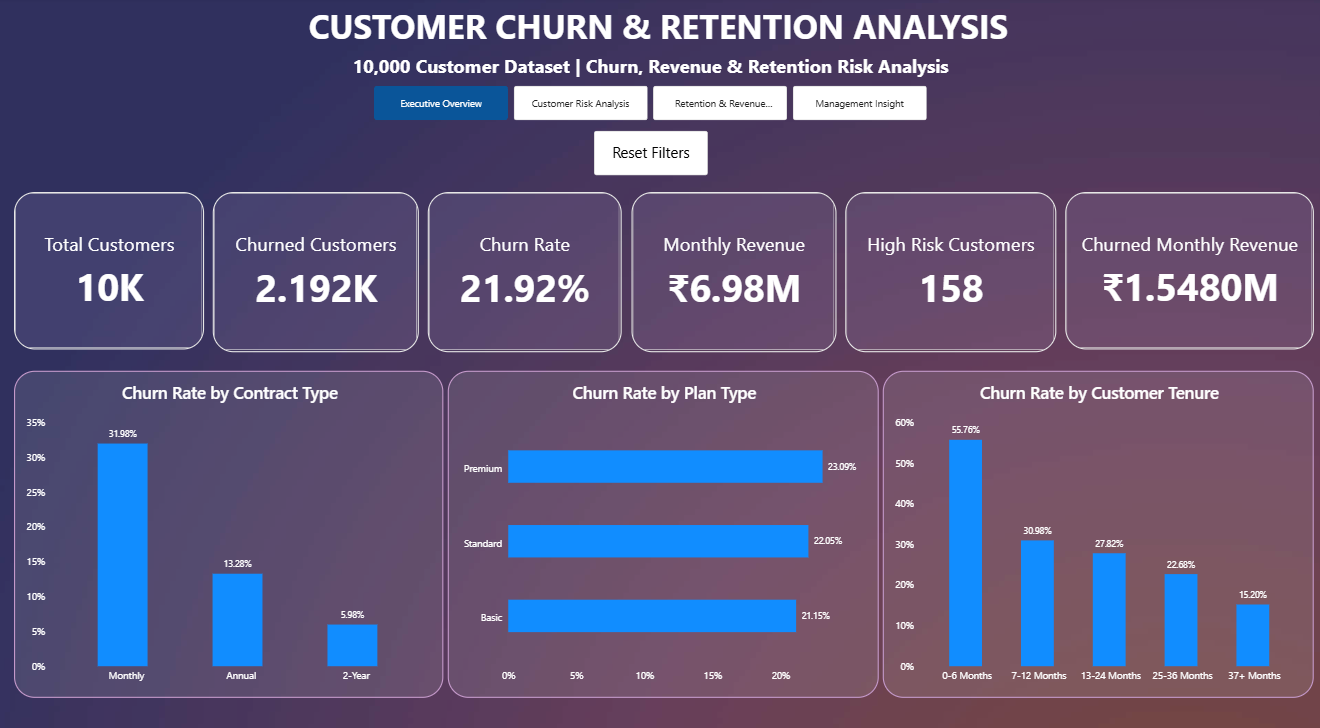

Layout of this report page (visuals, bound fields, positions):
{"tool":"powerbi","page":{"name":"Executive Overview","canvas":[1920,1080],"ordinal":0},"visuals":[{"type":"cardVisual","fields":{"Data":["Cleaned_Customer_Data 1.Total Customers"]},"box":[21.7,282.3,275.1,228],"z":0},{"type":"cardVisual","fields":{"Data":["Cleaned_Customer_Data 1.Churned Customers"]},"box":[309.5,282.3,298.6,231.6],"z":1000},{"type":"cardVisual","fields":{"Data":["Cleaned_Customer_Data 1.Churn Rate"]},"box":[620.7,282.3,280.5,231.6],"z":2000},{"type":"cardVisual","fields":{"Data":["Cleaned_Customer_Data 1.Monthly Revenue"]},"box":[915.7,282.3,296.8,231.6],"z":3000},{"type":"cardVisual","fields":{"Data":["Cleaned_Customer_Data 1.High Risk Customers"]},"box":[1225.1,282.3,305.8,231.6],"z":4000},{"type":"clusteredColumnChart","title":"Churn Rate by Contract Type","fields":{"Category":["Cleaned_Customer_Data 1.Contract_Type"],"Y":["Cleaned_Customer_Data 1.Churn Rate"]},"box":[20.9,540.5,621.9,473.7],"z":5000},{"type":"clusteredColumnChart","title":"Churn Rate by Customer Tenure","fields":{"Category":["Cleaned_Customer_Data 1.Tenure Group"],"Y":["Cleaned_Customer_Data 1.Churn Rate"]},"box":[1279.3,540.5,624,473.7],"z":6000},{"type":"barChart","title":"Churn Rate by Plan Type","fields":{"Category":["Cleaned_Customer_Data 1.Plan_Type"],"Y":["Cleaned_Customer_Data 1.Churn Rate"]},"box":[649,540.5,624,473.7],"z":7000},{"type":"textbox","box":[328.4,8.6,1267.5,72.5],"z":8000},{"type":"textbox","box":[308.9,81.1,1268,58],"z":9000},{"type":"cardVisual","fields":{"Data":["Cleaned_Customer_Data 1.Churned Monthly Revenue"]},"box":[1543.6,282.3,360.1,228],"z":10000},{"type":"pageNavigator","box":[542.9,128.5,801.7,50.7],"z":11000},{"type":"actionButton","box":[861.9,194.1,164.9,64.7],"z":12000}]}

Visuals, with their boxes in screenshot pixels (x1, y1, x2, y2), scaled from the page's 1920x1080 canvas onto the 1320x728 screenshot:
cardVisual - Cleaned_Customer_Data 1.Total Customers: <region>15, 190, 204, 344</region>
cardVisual - Cleaned_Customer_Data 1.Churned Customers: <region>213, 190, 418, 346</region>
cardVisual - Cleaned_Customer_Data 1.Churn Rate: <region>427, 190, 620, 346</region>
cardVisual - Cleaned_Customer_Data 1.Monthly Revenue: <region>630, 190, 834, 346</region>
cardVisual - Cleaned_Customer_Data 1.High Risk Customers: <region>842, 190, 1052, 346</region>
"Churn Rate by Contract Type" clusteredColumnChart: <region>14, 364, 442, 684</region>
"Churn Rate by Customer Tenure" clusteredColumnChart: <region>880, 364, 1309, 684</region>
"Churn Rate by Plan Type" barChart: <region>446, 364, 875, 684</region>
textbox: <region>226, 6, 1097, 55</region>
textbox: <region>212, 55, 1084, 94</region>
cardVisual - Cleaned_Customer_Data 1.Churned Monthly Revenue: <region>1061, 190, 1309, 344</region>
pageNavigator: <region>373, 87, 924, 121</region>
actionButton: <region>593, 131, 706, 174</region>
